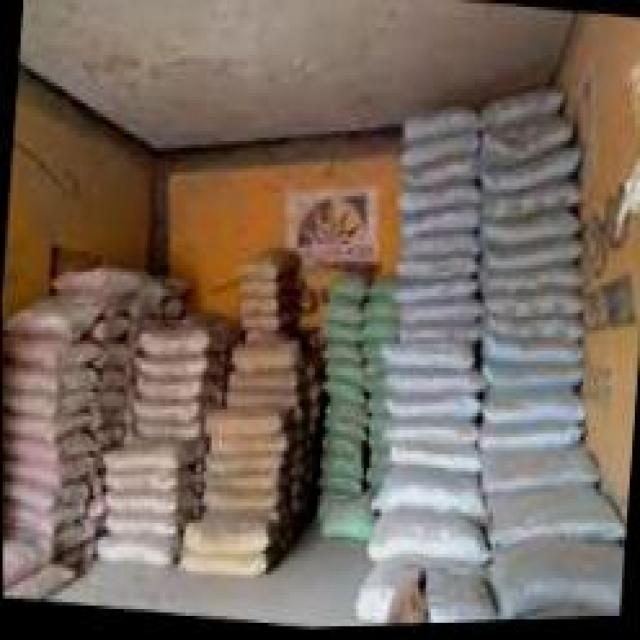gunny_bag: (487, 538, 624, 618), (481, 490, 614, 553), (378, 464, 487, 527), (478, 443, 590, 502), (367, 508, 485, 560), (3, 293, 99, 341), (482, 237, 583, 273), (484, 333, 575, 372), (481, 156, 575, 192), (490, 191, 573, 231), (483, 89, 559, 132), (2, 363, 92, 399), (489, 289, 576, 326), (484, 389, 578, 421), (185, 518, 271, 552), (2, 410, 85, 445), (382, 369, 476, 399), (382, 338, 470, 370), (400, 208, 473, 245), (1, 336, 88, 367), (139, 324, 205, 363), (402, 297, 471, 333), (403, 109, 477, 142), (385, 402, 476, 428), (396, 256, 469, 287), (103, 488, 169, 522), (106, 445, 192, 471), (206, 410, 285, 438), (229, 343, 297, 375), (135, 370, 198, 403), (205, 449, 277, 476), (203, 486, 271, 514), (132, 396, 194, 426), (406, 162, 465, 193), (228, 367, 291, 395), (323, 416, 363, 446), (322, 453, 358, 486), (323, 379, 357, 410), (239, 278, 276, 304), (325, 303, 360, 330), (323, 344, 357, 368), (362, 303, 398, 325), (242, 316, 277, 337)
